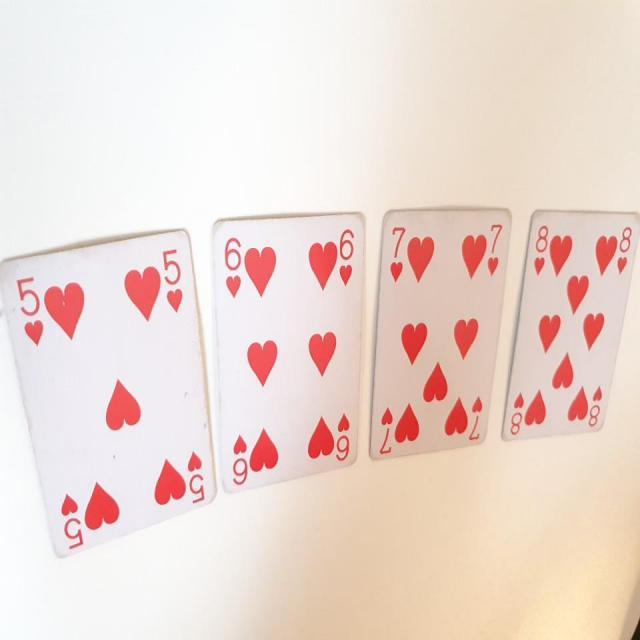5 of hearts: (1, 217, 220, 568)
6 of hearts: (209, 208, 360, 494)
7 of hearts: (366, 204, 518, 470)
8 of hearts: (502, 205, 640, 438)
